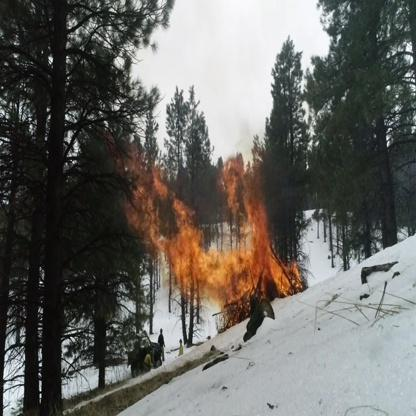Fire: (102, 126, 308, 328)
